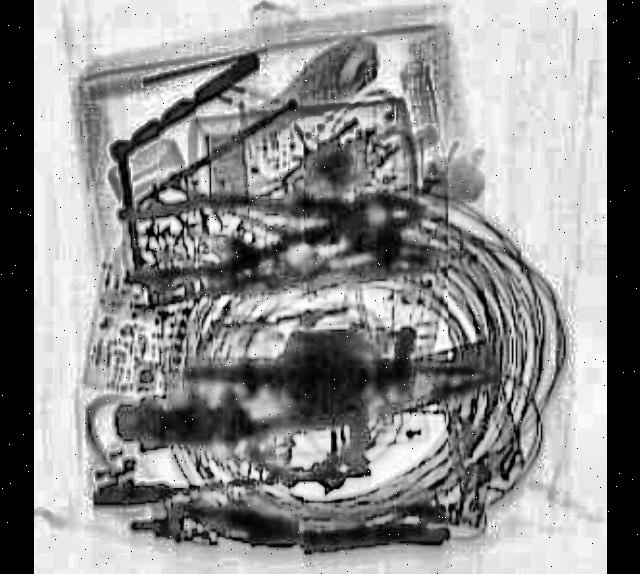Pliers: (120, 168, 428, 286)
